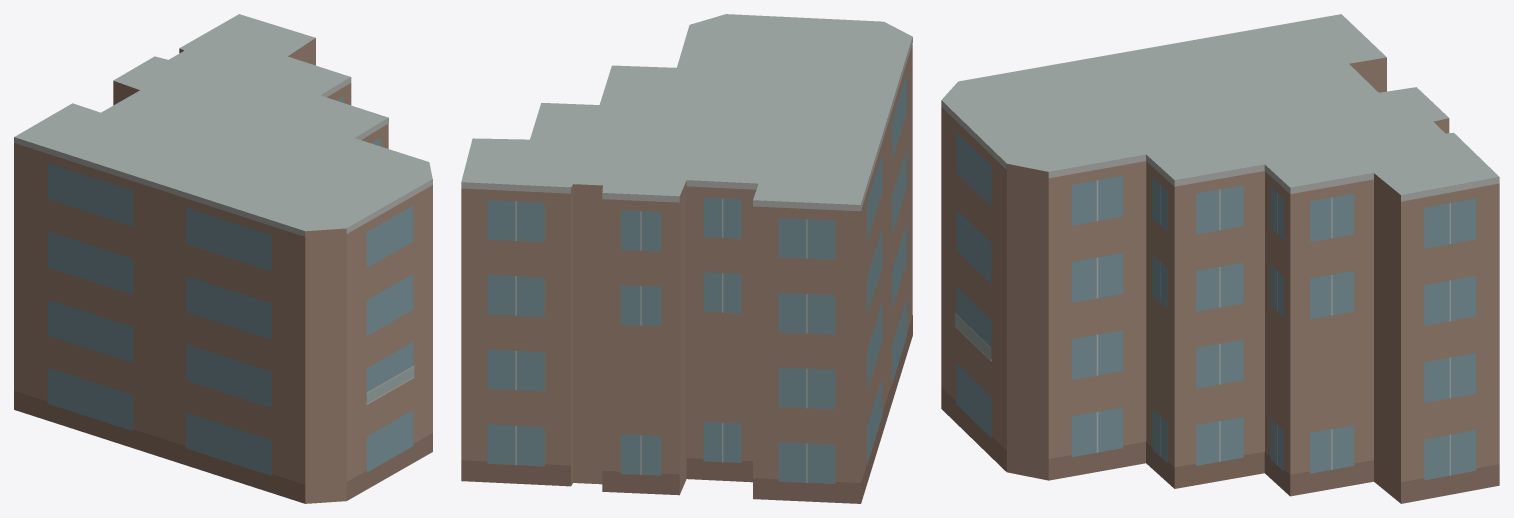
The model's file is survey-upis-32808846.glb.
3 renders of one model, left to right at view 1: azimuth 30°, elevation 25°; view 2: azimuth 150°, elevation 25°; view 3: azimuth 270°, elevation 25°, orthographic. The views are drawn at different scales.
Visible parts, largest first — view 1: survey-upis-32808846.tmp; view 2: survey-upis-32808846.tmp; view 3: survey-upis-32808846.tmp.
Boxes of the visible parts, <box> form: survey-upis-32808846.tmp: <box>14,14,432,503</box>; survey-upis-32808846.tmp: <box>461,14,912,503</box>; survey-upis-32808846.tmp: <box>941,14,1499,503</box>.
Size of the model in its own units: 14.61 by 11.6 by 19.02.
